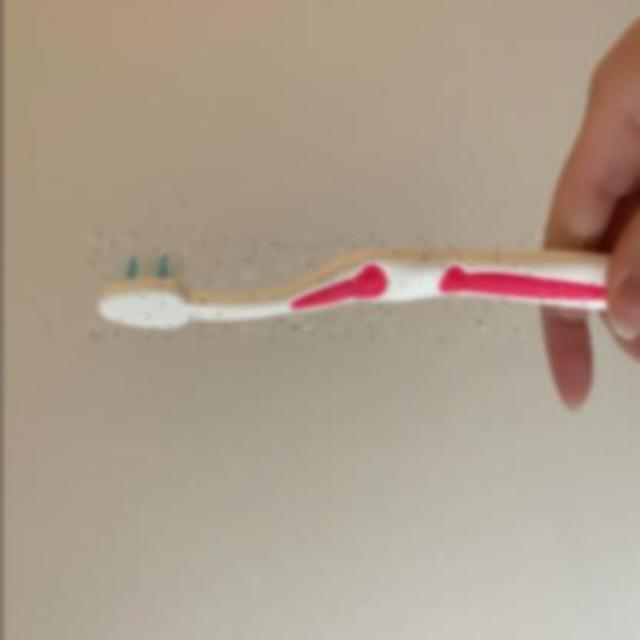toothbrush: (87, 234, 603, 342)
